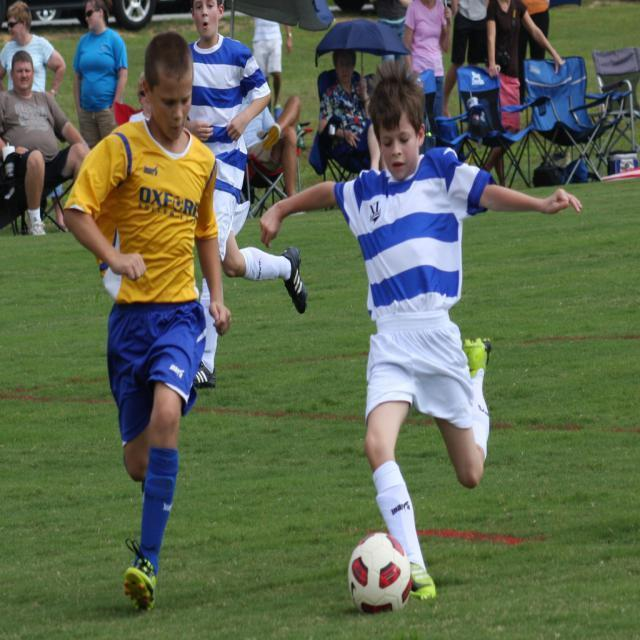ball: (349, 534, 413, 615)
